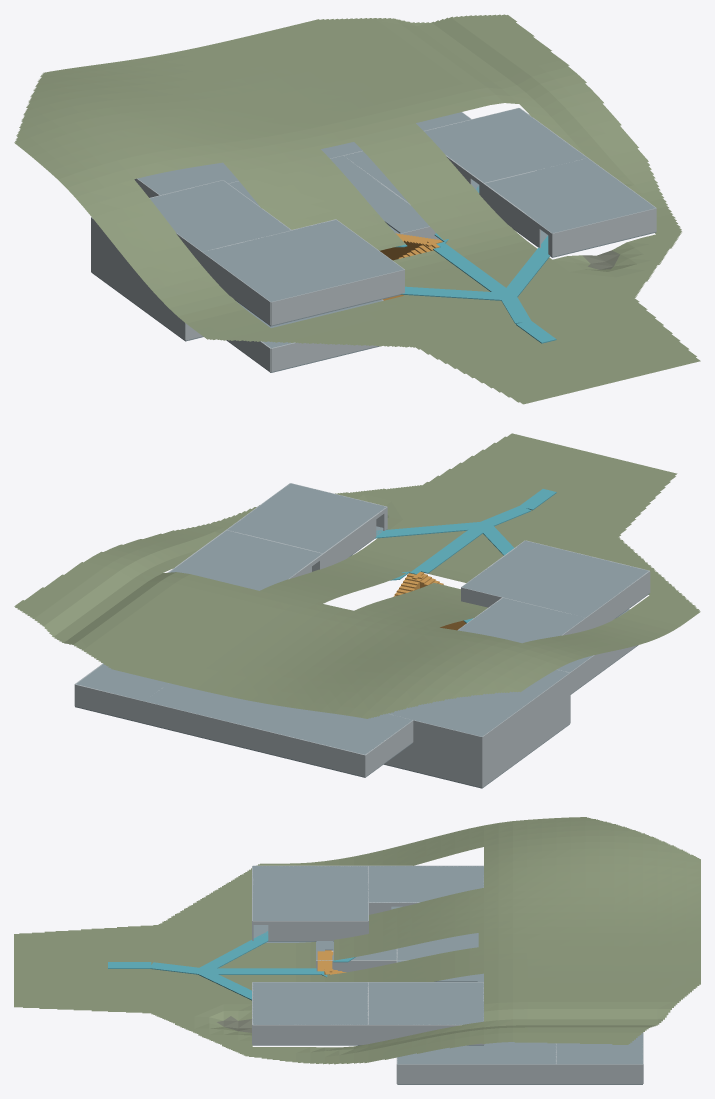
Rendered from terrain-assembly.glb.
3 renders of one model, top to bottom at view 1: azimuth 30°, elevation 25°; view 2: azimuth 150°, elevation 25°; view 3: azimuth 270°, elevation 25°, orthographic. The views are drawn at different scales.
Parts seen in each view (by area): view 1: Saved editor macroterrain WLD-05, Ceiling cap shack, Ceiling cap assay, Ceiling cap wash, Ceiling cap stores, Wall shack S, Wall lower W, Wall assay S, Ceiling cap cross, Wall vent S, Wall shack W, Ceiling cap haul.004 (+8 smaller); view 2: Saved editor macroterrain WLD-05, Ceiling cap shack, Ceiling cap cross, Ceiling cap assay, Ceiling cap wash, Wall cross N, Ceiling cap ore-west, Ceiling cap stores, Wall lower W, Wall lower N, Wall ore-west W, Ceiling cap lift (+8 smaller); view 3: Saved editor macroterrain WLD-05, Ceiling cap shack, Ceiling cap assay, Ceiling cap wash, Ceiling cap stores, Wall ore-east E, Ceiling cap ore-east, Wall assay E, Ceiling cap lift, Wall shack E, Wall lift E, Ceiling cap ore-west (+5 smaller).
Boxes of the visible parts, <box> form: Saved editor macroterrain WLD-05: <box>14,14,700,404</box>; Ceiling cap shack: <box>203,220,403,301</box>; Ceiling cap assay: <box>485,158,655,233</box>; Ceiling cap wash: <box>424,108,586,182</box>; Ceiling cap stores: <box>150,180,290,251</box>; Wall shack S: <box>271,269,404,325</box>; Wall lower W: <box>91,241,185,340</box>; Wall assay S: <box>552,208,656,256</box>; Ceiling cap cross: <box>137,142,362,195</box>; Wall vent S: <box>271,342,376,371</box>; Wall shack W: <box>202,252,270,325</box>; Ceiling cap haul.004: <box>363,190,429,233</box>; Saved editor macroterrain WLD-05: <box>14,433,700,718</box>; Ceiling cap shack: <box>462,540,648,617</box>; Ceiling cap cross: <box>144,683,412,754</box>; Ceiling cap assay: <box>227,483,386,553</box>; Ceiling cap wash: <box>169,530,321,590</box>; Wall cross N: <box>144,701,365,776</box>; Ceiling cap ore-west: <box>388,669,569,736</box>; Ceiling cap stores: <box>458,598,585,643</box>; Wall lower W: <box>482,694,570,787</box>; Wall lower N: <box>385,742,482,787</box>; Wall ore-west W: <box>482,673,570,758</box>; Ceiling cap lift: <box>76,663,168,700</box>; Saved editor macroterrain WLD-05: <box>14,817,700,1064</box>; Ceiling cap shack: <box>252,866,368,920</box>; Ceiling cap assay: <box>252,982,368,1024</box>; Ceiling cap wash: <box>368,982,483,1024</box>; Ceiling cap stores: <box>368,866,483,902</box>; Wall ore-east E: <box>397,1064,556,1084</box>; Ceiling cap ore-east: <box>397,1042,556,1064</box>; Wall assay E: <box>252,1024,368,1044</box>; Ceiling cap lift: <box>556,1033,642,1064</box>; Wall shack E: <box>268,921,368,940</box>; Wall lift E: <box>556,1064,642,1084</box>; Ceiling cap ore-west: <box>397,933,478,959</box>.
Bounding box in the file's own units: 70 × 17.77 × 95.
